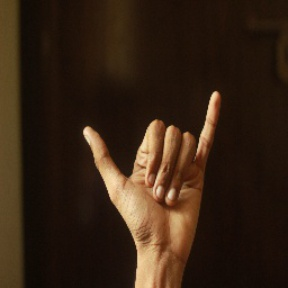J: (77, 73, 220, 254)
